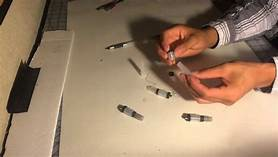pen: (103, 32, 158, 49)
